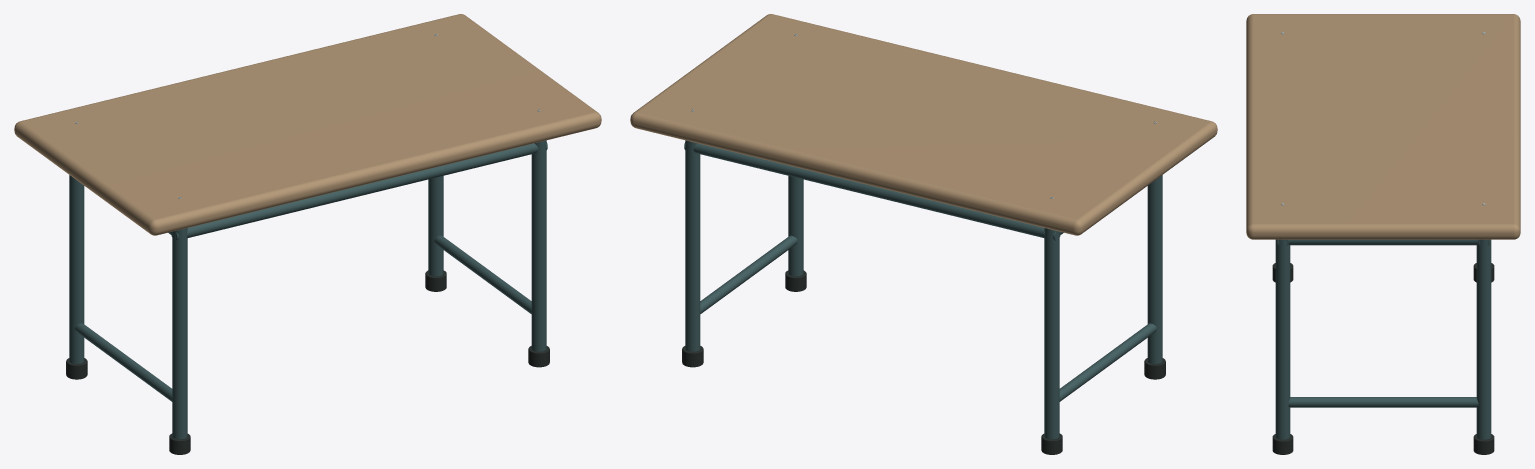
Rendered from worktable.glb.
3 renders of one model, left to right at view 1: azimuth 30°, elevation 25°; view 2: azimuth 150°, elevation 25°; view 3: azimuth 270°, elevation 25°, orthographic. The views are drawn at different scales.
Visible parts, largest first — view 1: Rounded workshop top, Long underframe, Worktable leg, Worktable leg.002, Worktable leg.001, Worktable leg.003, Foot stretcher, Foot stretcher.001; view 2: Rounded workshop top, Long underframe.001, Worktable leg.001, Worktable leg.003, Worktable leg, Worktable leg.002, Foot stretcher, Foot stretcher.001; view 3: Rounded workshop top, Worktable leg.002, Worktable leg.003, Foot stretcher.001, End underframe.001, Adjustable foot.002, Adjustable foot.003.
Part boxes in pixels (box(x1,y1,x2,y2)): Rounded workshop top: box(14, 14, 601, 235); Long underframe: box(171, 142, 547, 240); Worktable leg: box(172, 228, 187, 439); Worktable leg.002: box(531, 140, 546, 351); Worktable leg.001: box(69, 175, 84, 363); Worktable leg.003: box(428, 176, 443, 276); Foot stretcher: box(75, 323, 172, 401); Foot stretcher.001: box(434, 235, 531, 313); Rounded workshop top: box(630, 14, 1217, 235); Long underframe.001: box(684, 142, 1060, 240); Worktable leg.001: box(1044, 228, 1059, 439); Worktable leg.003: box(685, 140, 700, 351); Worktable leg: box(1147, 175, 1162, 363); Worktable leg.002: box(788, 176, 803, 276); Foot stretcher: box(1059, 323, 1156, 401); Foot stretcher.001: box(700, 235, 797, 313); Rounded workshop top: box(1246, 14, 1520, 239); Worktable leg.002: box(1275, 239, 1290, 439); Worktable leg.003: box(1476, 239, 1491, 439); Foot stretcher.001: box(1288, 397, 1478, 407); End underframe.001: box(1288, 239, 1478, 245); Adjustable foot.002: box(1272, 434, 1293, 454); Adjustable foot.003: box(1473, 434, 1494, 454).
Bounding box in the file's own units: 3.9 × 2.09 × 2.1.
